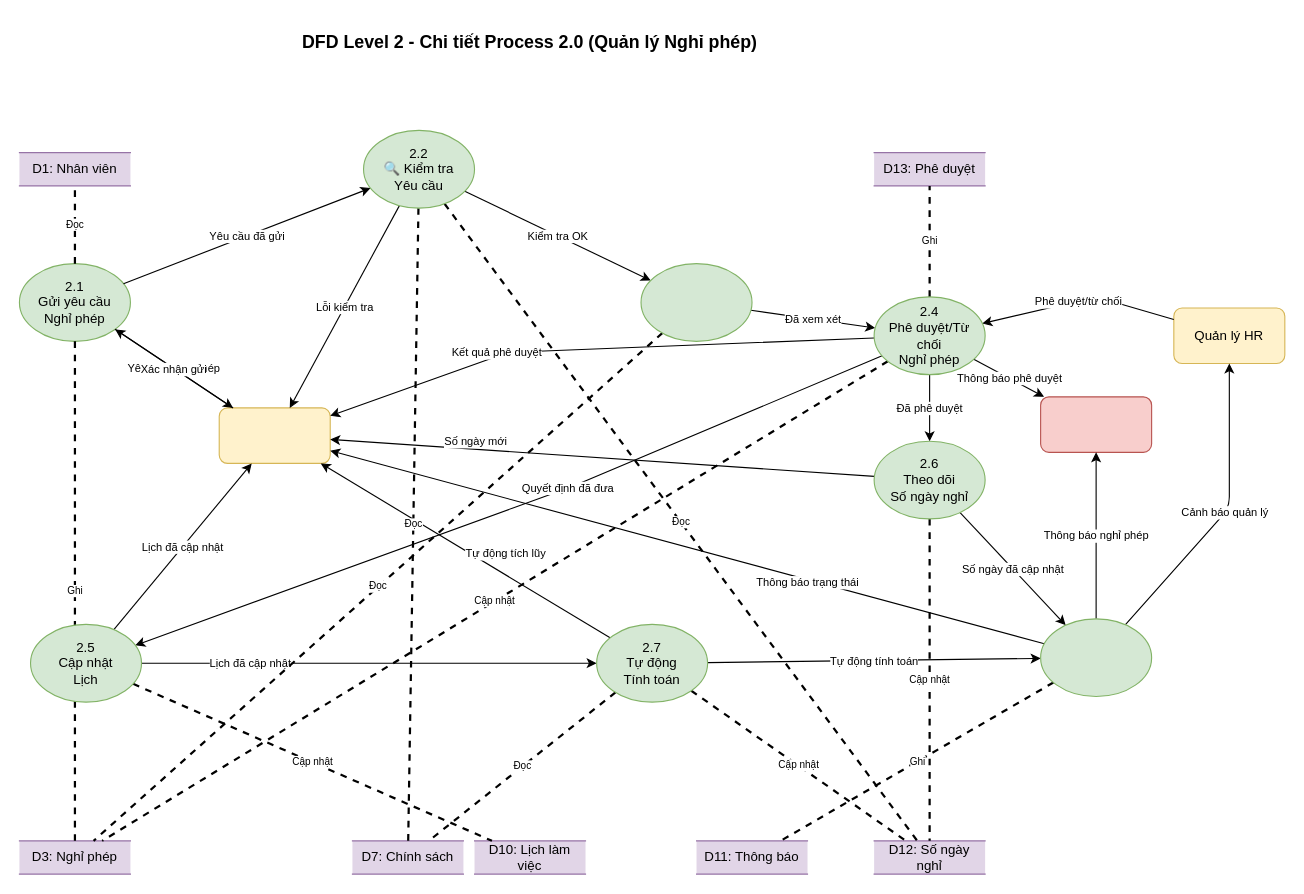
Some shapes in this 1304 by 894 pixel diagram are drawn without their labels. Each missing label, with the centre of its shape:
2.3 👀 Quản lý Xem xét: (x=696, y=302)
2.8 Gửi Thông báo: (x=1096, y=657)
Nhân viên: (x=274, y=435)
Thông báo: (x=1096, y=424)
